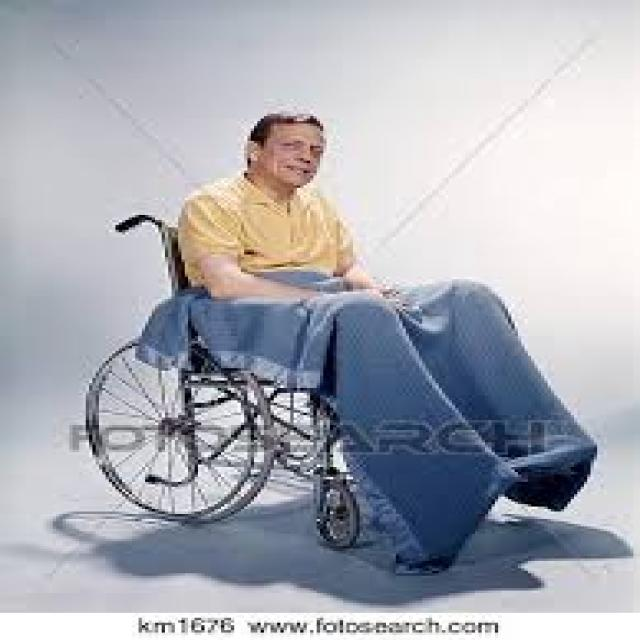wheelchairs: (72, 208, 590, 586)
